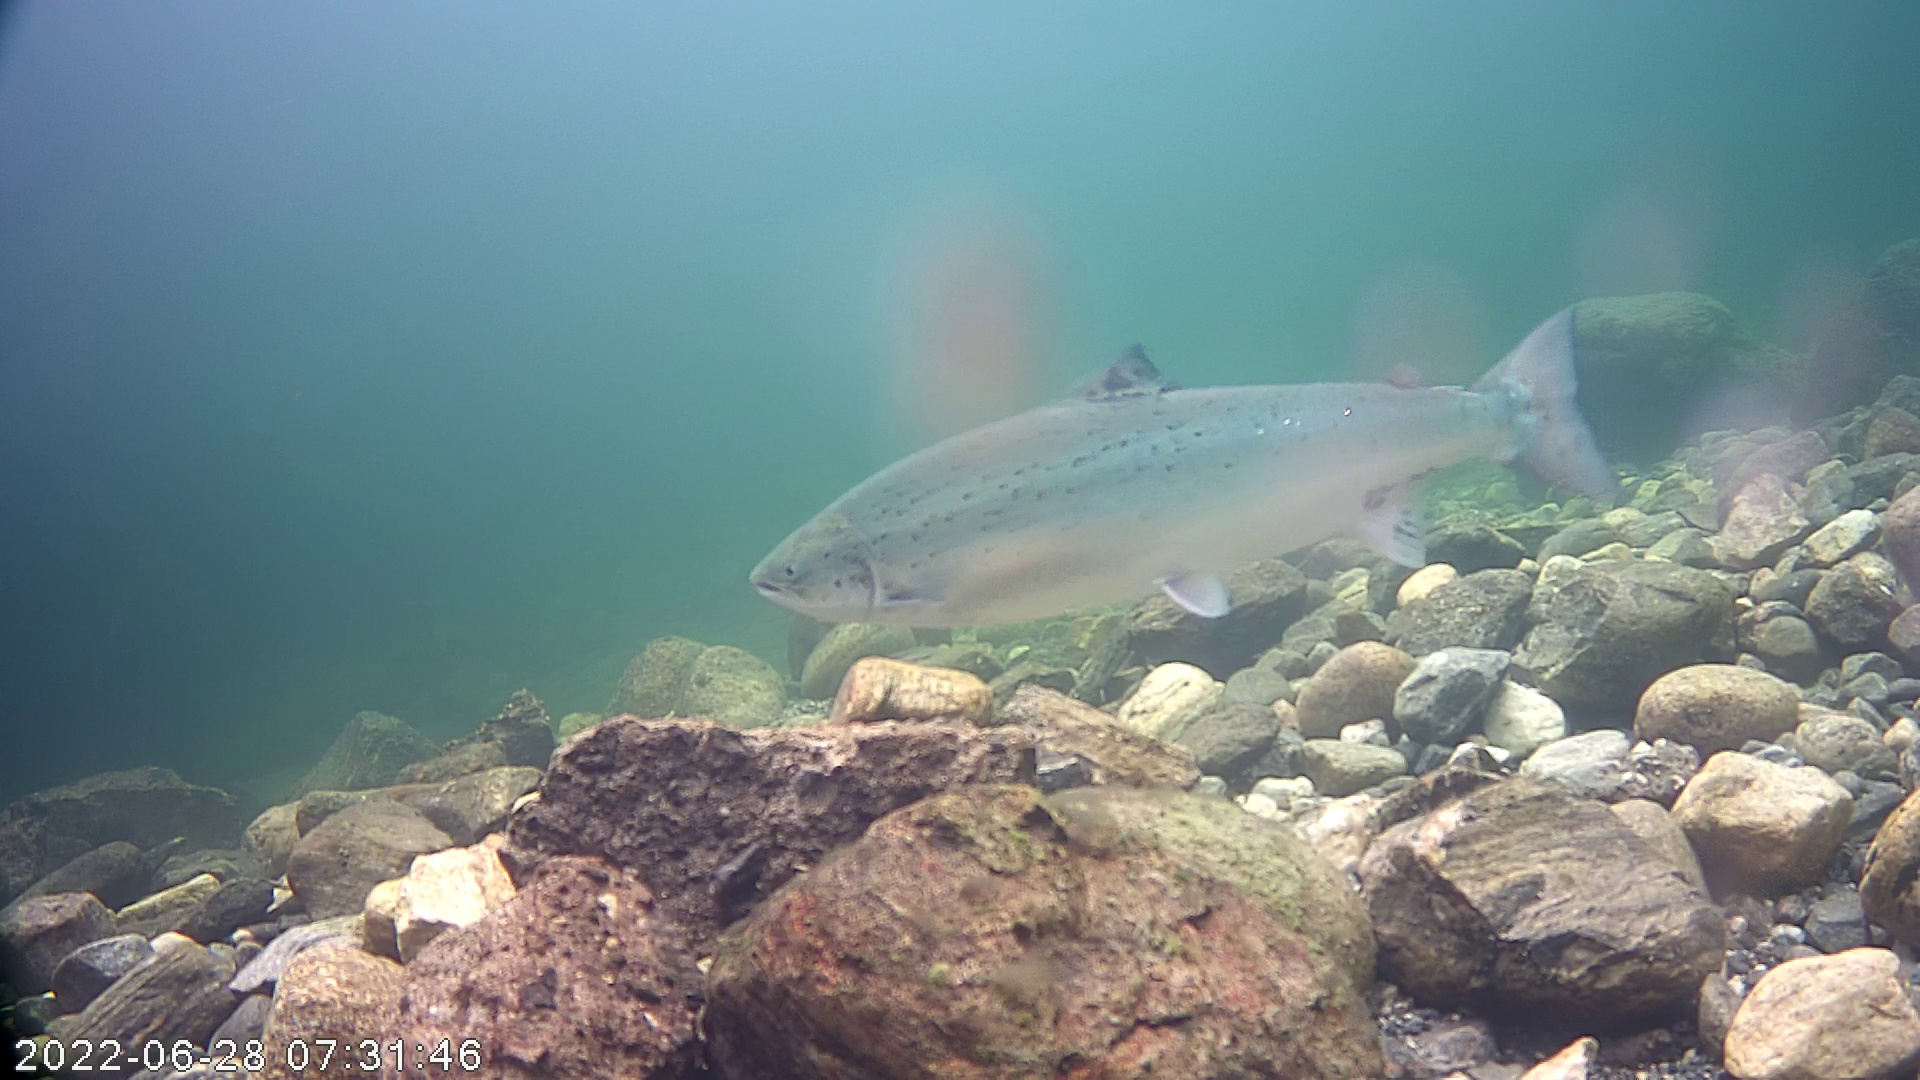salmon: (742, 233, 1635, 688)
